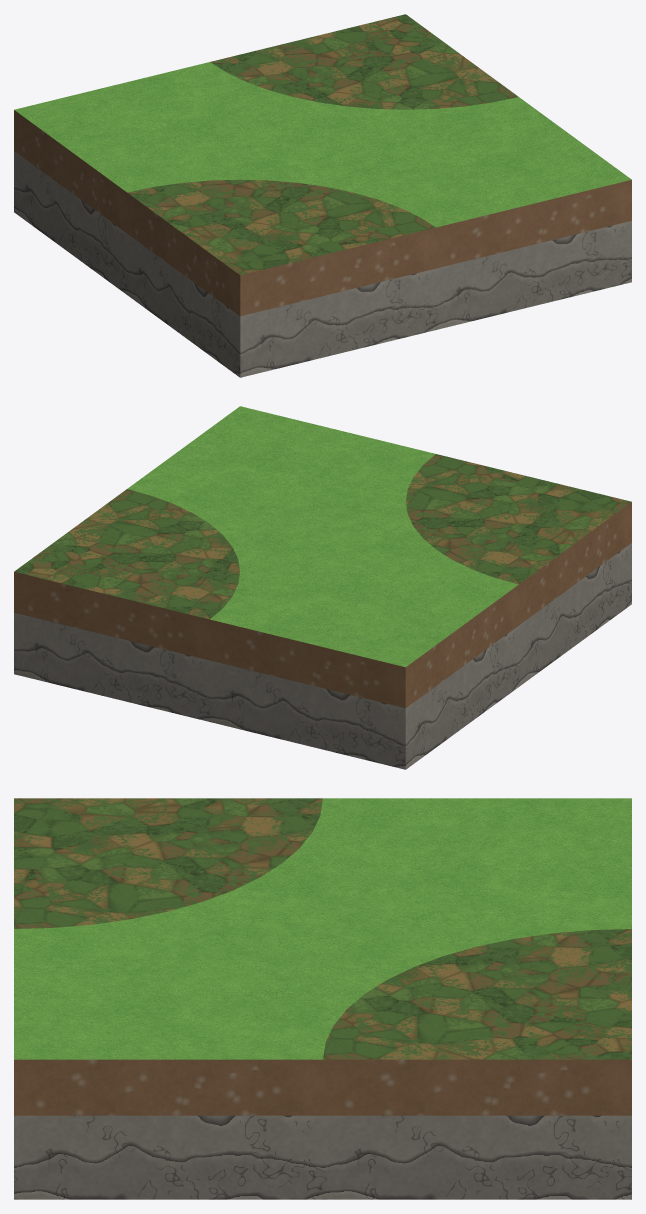
Rendered from Forest_Diagonal_L.fbx.
3 renders of one model, top to bottom at view 1: azimuth 30°, elevation 25°; view 2: azimuth 150°, elevation 25°; view 3: azimuth 270°, elevation 25°, orthographic. The views are drawn at different scales.
Visible parts, largest first — view 1: Forest_Diagonal_L; view 2: Forest_Diagonal_L; view 3: Forest_Diagonal_L.
Part boxes in pixels (x1,y1,x2,y2): Forest_Diagonal_L: (14,14,631,377); Forest_Diagonal_L: (14,406,631,769); Forest_Diagonal_L: (14,798,631,1199).
Bounding box in the file's own units: 3 × 0.75 × 3.
4 materials, 4 textured.
